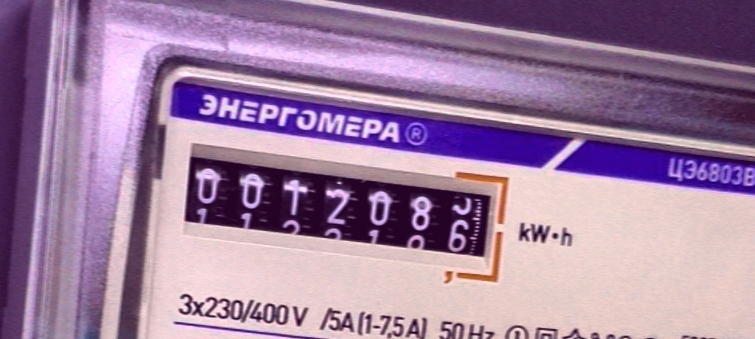0: (234, 169, 265, 213), (191, 163, 219, 207), (364, 188, 390, 228)
1: (278, 175, 304, 218)
2: (321, 186, 349, 227)
6: (441, 216, 468, 254)
8: (406, 192, 431, 234)
screen: (169, 130, 518, 297)
